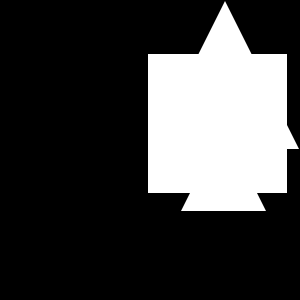circle: (148, 54, 287, 193)
triangle: (151, 1, 299, 149), (181, 126, 266, 211)
